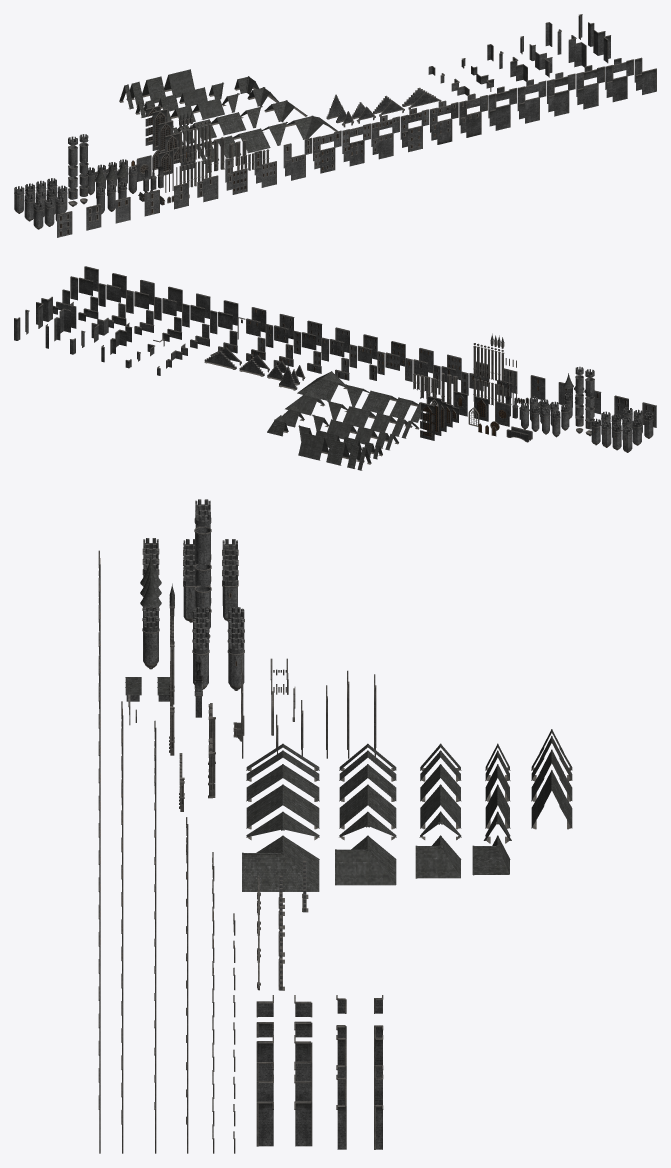
The model's file is RenderCrate-Castle_Components.fbx.
3 renders of one model, top to bottom at view 1: azimuth 30°, elevation 25°; view 2: azimuth 150°, elevation 25°; view 3: azimuth 270°, elevation 25°, orthographic. The views are drawn at different scales.
Parts seen in each view (by area): view 1: Roof_Tall_4x6, Roof_Corner_8x8, Roof_8x6, Roof_6x6, Roof_4x6, Roof_Tall_4x4, Roof_Corner_6x6, Roof_2x6, Wall_6x4_Big_Windows_3x1, Wall_6x4_Small_Windows_2x2, Wall_6x4_5, Wall_6x4_Big_Windows_1x2 (+17 smaller); view 2: Roof_Corner_8x8, Roof_Tall_4x6, Roof_8x6, Roof_Corner_6x6, Roof_6x6, Roof_Tall_4x4, Roof_4x6, Wall_6x4_Big_Windows_2x1, Roof_8x4, Wall_6x4_Large_Window_2, Wall_6x4_Large_Window_1, Roof_Front_02_8m (+1 smaller); view 3: Roof_Corner_8x8, Roof_Corner_6x6, Roof_8x6, Roof_Corner_4x4, Roof_6x6, Roof_Corner_2x2, Roof_8x4, Roof_Tall_4x6, Roof_4x6.
Boxes of the visible parts, x1=… form: Roof_Tall_4x6: x1=164, y1=69, x2=194, y2=97; Roof_Corner_8x8: x1=286, y1=115, x2=337, y2=139; Roof_8x6: x1=233, y1=128, x2=270, y2=153; Roof_6x6: x1=211, y1=112, x2=245, y2=135; Roof_4x6: x1=192, y1=98, x2=224, y2=119; Roof_Tall_4x4: x1=142, y1=76, x2=165, y2=103; Roof_Corner_6x6: x1=264, y1=100, x2=307, y2=122; Roof_2x6: x1=179, y1=87, x2=207, y2=106; Wall_6x4_Big_Windows_3x1: x1=144, y1=189, x2=159, y2=216; Wall_6x4_Small_Windows_2x2: x1=437, y1=118, x2=452, y2=144; Wall_6x4_5: x1=612, y1=75, x2=627, y2=102; Wall_6x4_Big_Windows_1x2: x1=115, y1=197, x2=130, y2=223; Roof_Corner_8x8: x1=297, y1=371, x2=346, y2=401; Roof_Tall_4x6: x1=298, y1=432, x2=328, y2=460; Roof_8x6: x1=361, y1=390, x2=397, y2=414; Roof_Corner_6x6: x1=285, y1=389, x2=324, y2=415; Roof_6x6: x1=343, y1=406, x2=375, y2=427; Roof_Tall_4x4: x1=326, y1=439, x2=349, y2=465; Roof_4x6: x1=327, y1=419, x2=356, y2=439; Wall_6x4_Big_Windows_2x1: x1=530, y1=375, x2=545, y2=400; Roof_8x4: x1=389, y1=397, x2=418, y2=419; Wall_6x4_Large_Window_2: x1=495, y1=401, x2=509, y2=426; Wall_6x4_Large_Window_1: x1=474, y1=396, x2=488, y2=421; Roof_Front_02_8m: x1=204, y1=351, x2=236, y2=369; Roof_Corner_8x8: x1=242, y1=835, x2=319, y2=891; Roof_Corner_6x6: x1=335, y1=835, x2=396, y2=885; Roof_8x6: x1=246, y1=784, x2=319, y2=829; Roof_Corner_4x4: x1=415, y1=835, x2=461, y2=878; Roof_6x6: x1=339, y1=784, x2=396, y2=829; Roof_Corner_2x2: x1=472, y1=835, x2=510, y2=875; Roof_8x4: x1=246, y1=764, x2=319, y2=801; Roof_Tall_4x6: x1=531, y1=770, x2=572, y2=829; Roof_4x6: x1=420, y1=784, x2=461, y2=829.
Size of the model in its own units: 6557 by 2317 by 780.
Materials: 1 (1 with a texture image).
